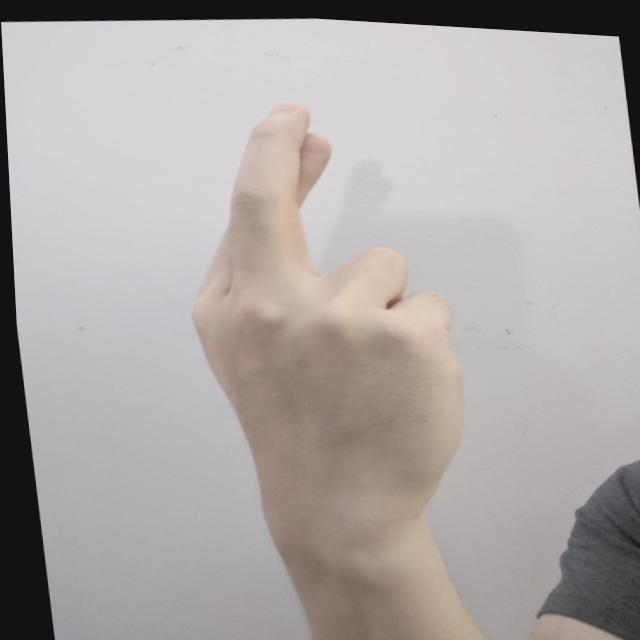R: (150, 76, 489, 560)
